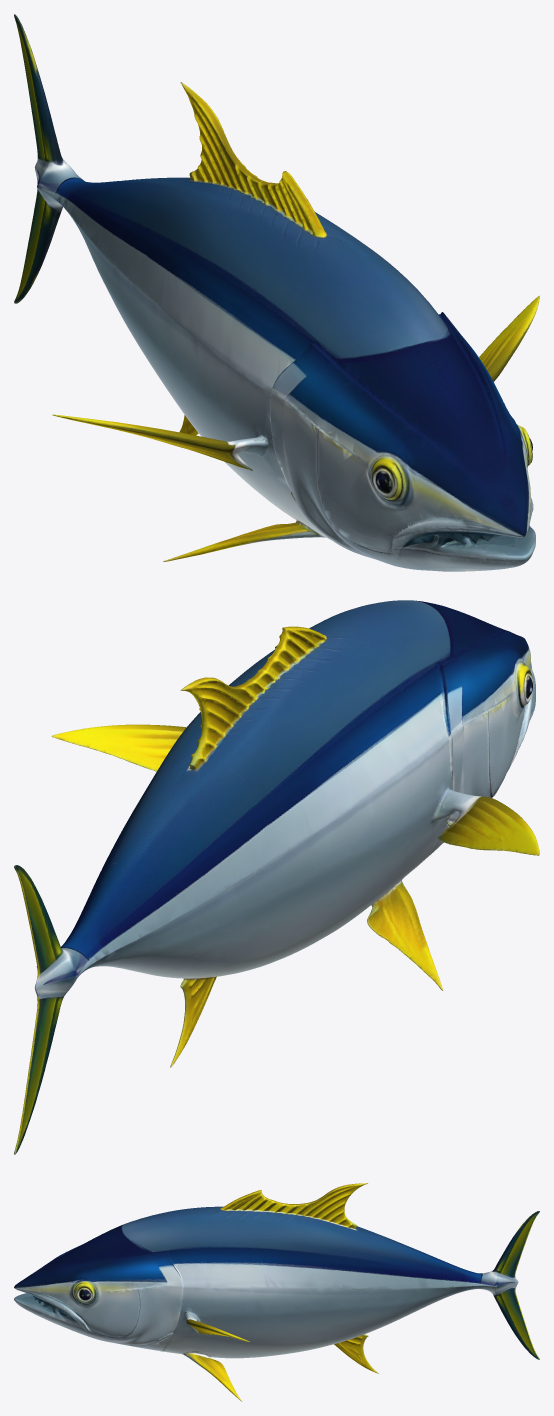
File: fish-school.glb
3 renders of one model, top to bottom at view 1: azimuth 30°, elevation 25°; view 2: azimuth 150°, elevation 25°; view 3: azimuth 270°, elevation 25°, orthographic. The views are drawn at different scales.
Size of the model in its own units: 1.05 by 0.7592 by 1.9.
1 material, 1 textured.
